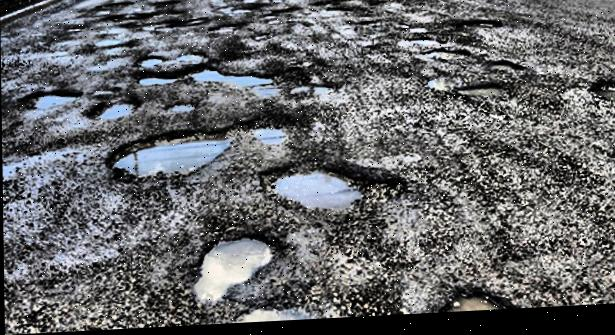pothole: (254, 159, 401, 231), (99, 128, 237, 187), (182, 232, 277, 313), (186, 64, 275, 101), (131, 0, 200, 37), (237, 118, 300, 153), (453, 84, 514, 110), (20, 88, 81, 114), (439, 292, 499, 317), (210, 0, 271, 21), (88, 102, 137, 125), (92, 0, 132, 28), (287, 81, 337, 102), (423, 50, 475, 69), (133, 72, 180, 91), (453, 22, 500, 38), (404, 36, 443, 54), (99, 25, 123, 53), (314, 0, 349, 19), (162, 101, 199, 117), (584, 84, 615, 103), (130, 55, 165, 71), (489, 63, 521, 79), (210, 23, 238, 40), (174, 53, 205, 65), (370, 0, 394, 11)
